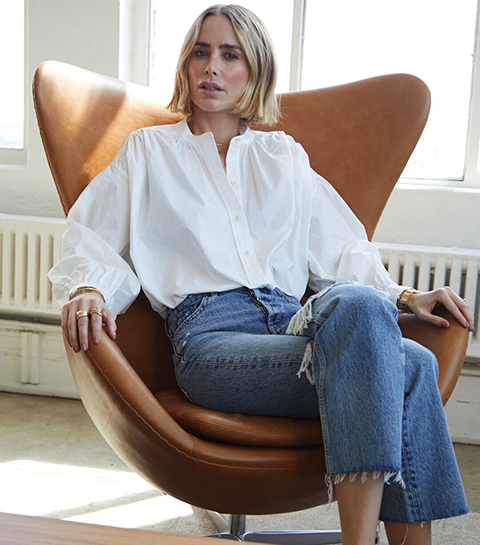without_mask: (190, 40, 243, 106)
